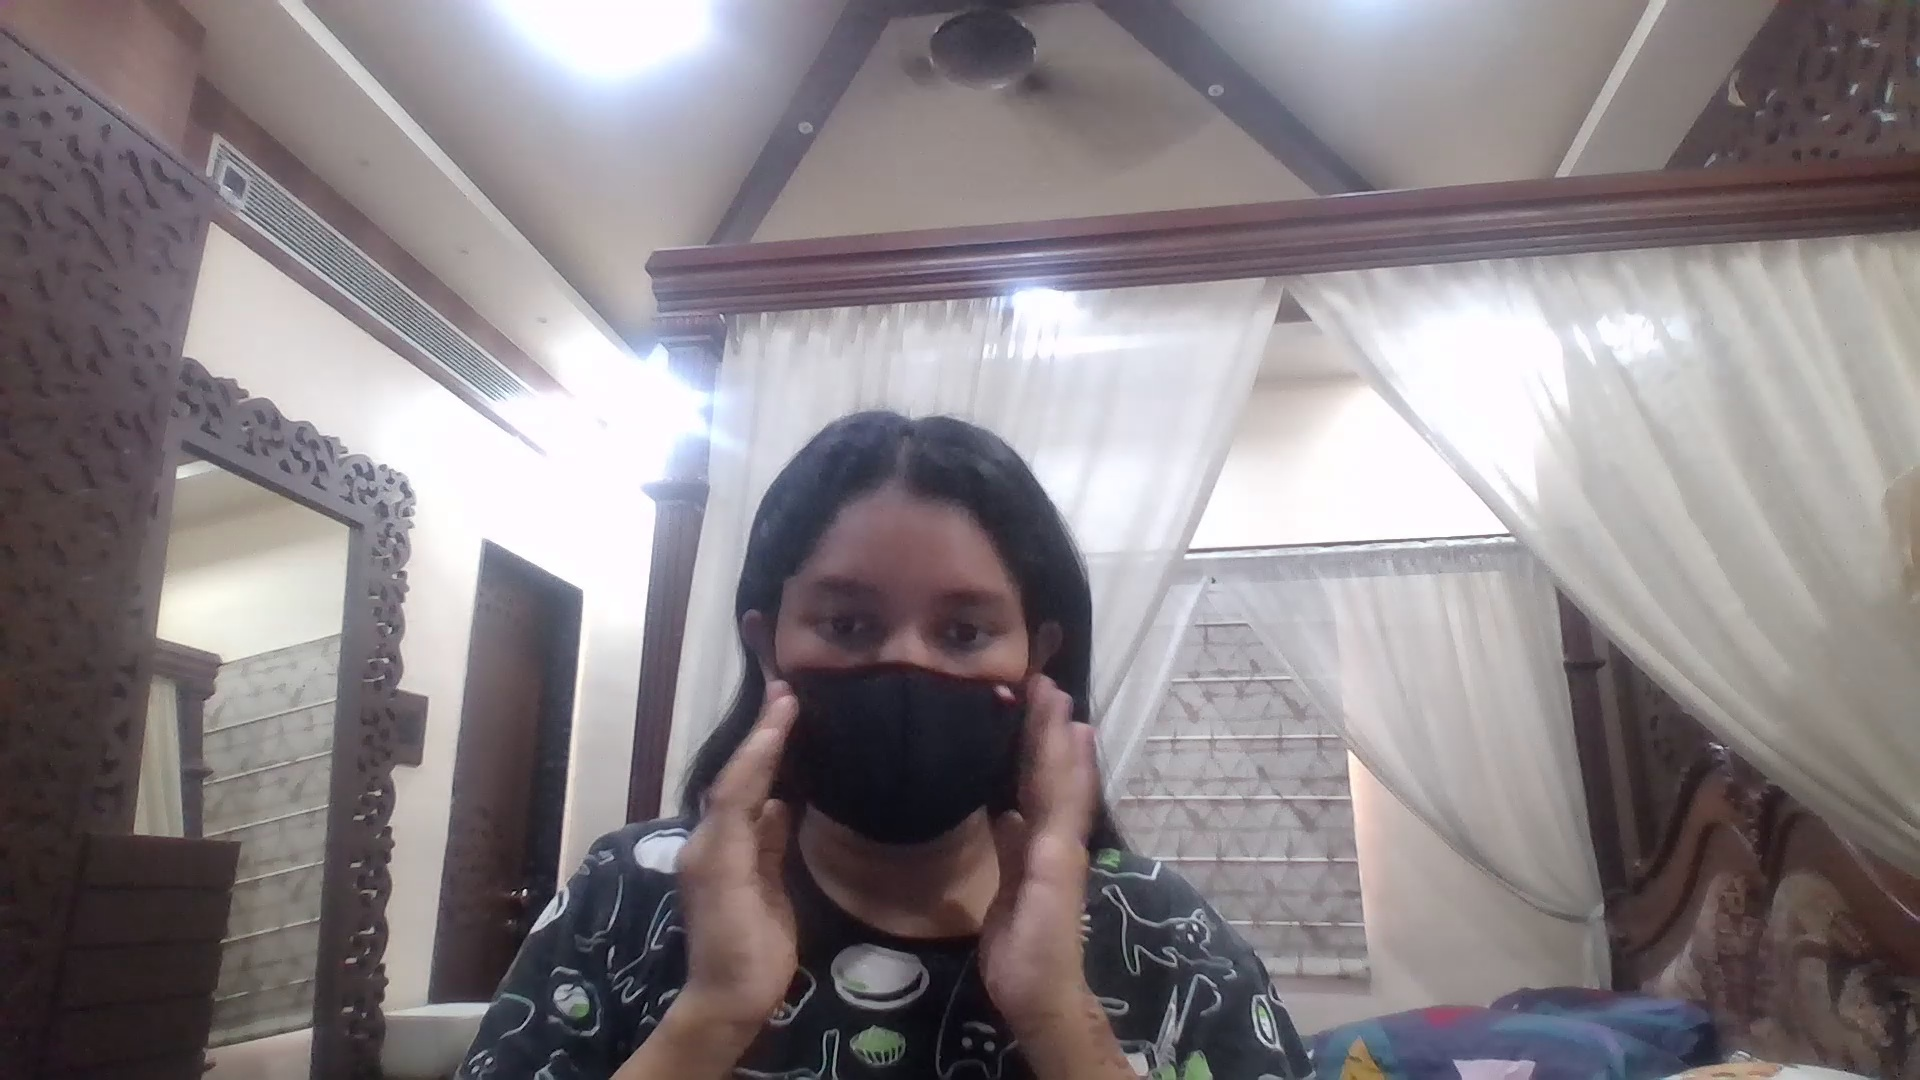Mask: (787, 659, 1029, 861)
